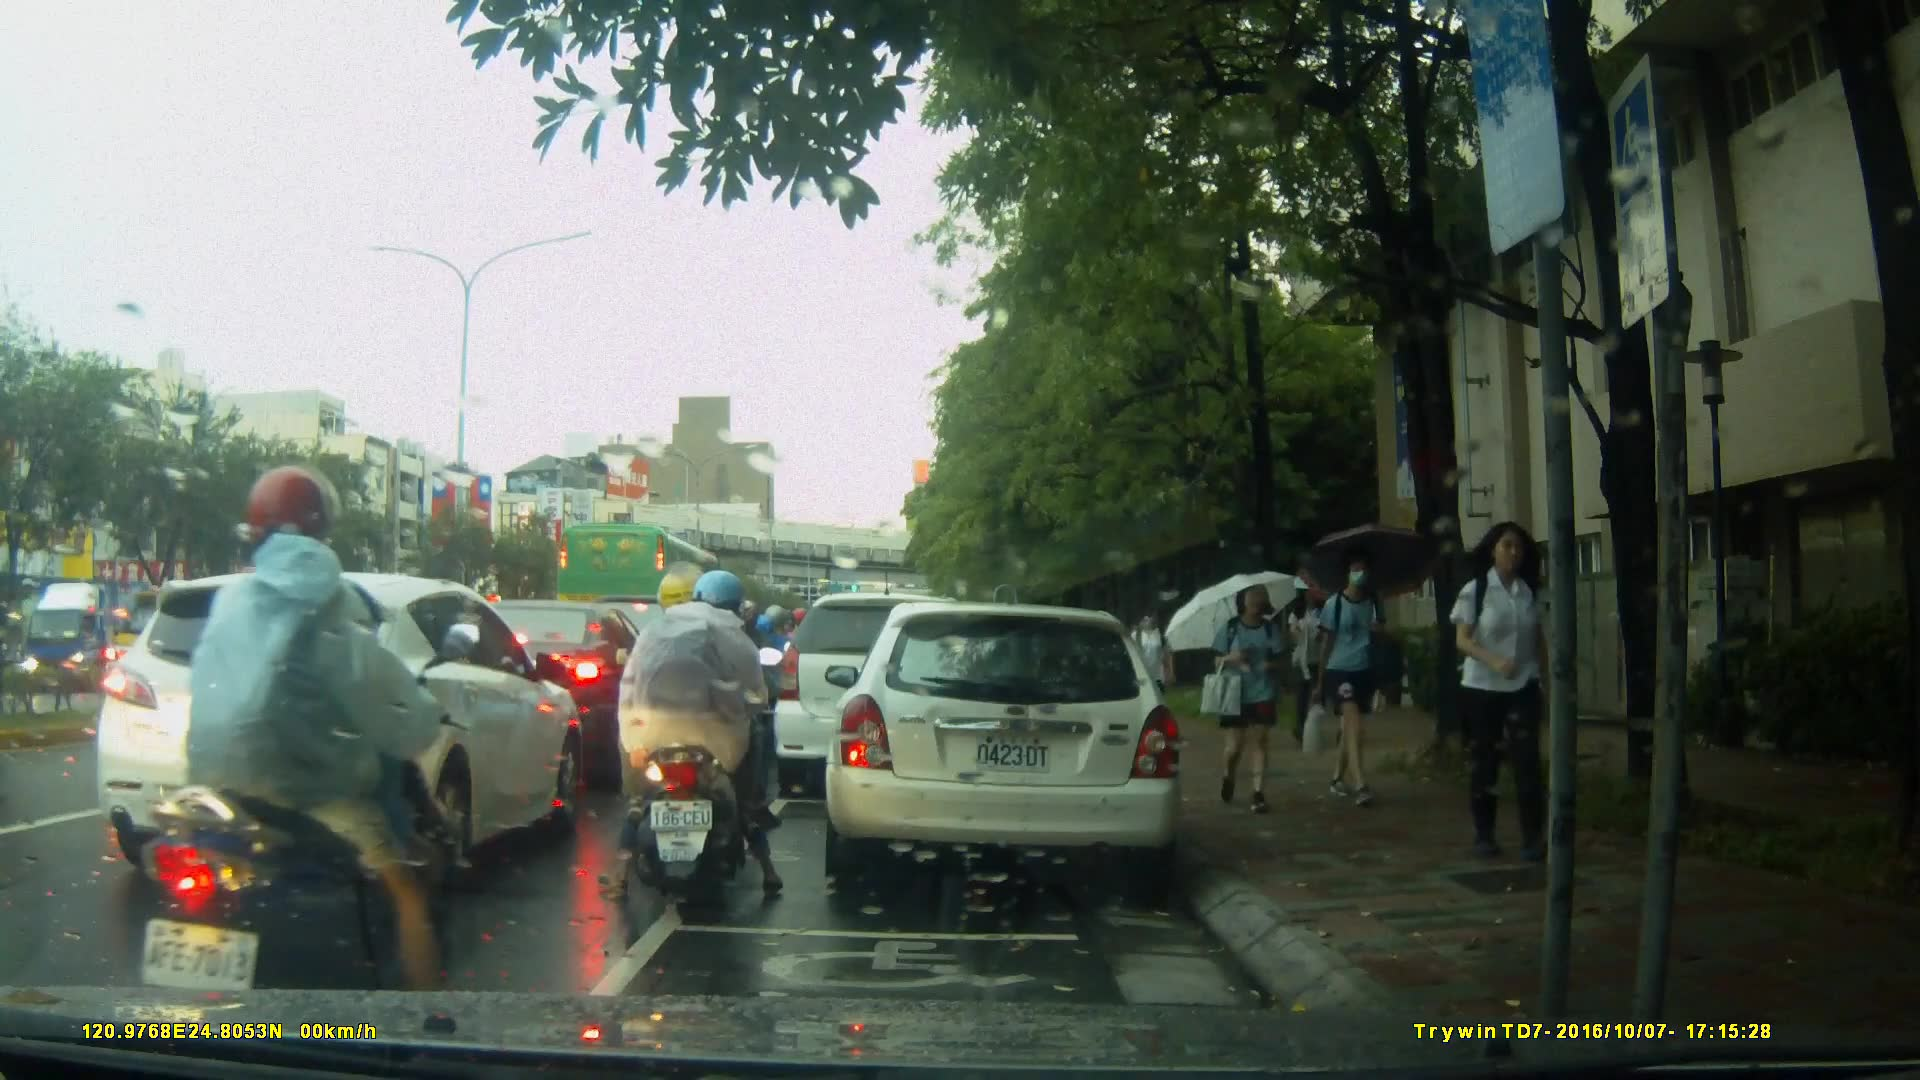pedestrian: (1441, 516, 1564, 871), (1303, 545, 1399, 813), (1204, 572, 1290, 820), (1131, 602, 1173, 745)
rider: (107, 464, 482, 1018), (594, 564, 781, 913), (654, 584, 761, 822)
vehicle: (93, 569, 587, 883), (822, 604, 1186, 882), (774, 595, 995, 802), (554, 519, 739, 666), (20, 576, 199, 697)
